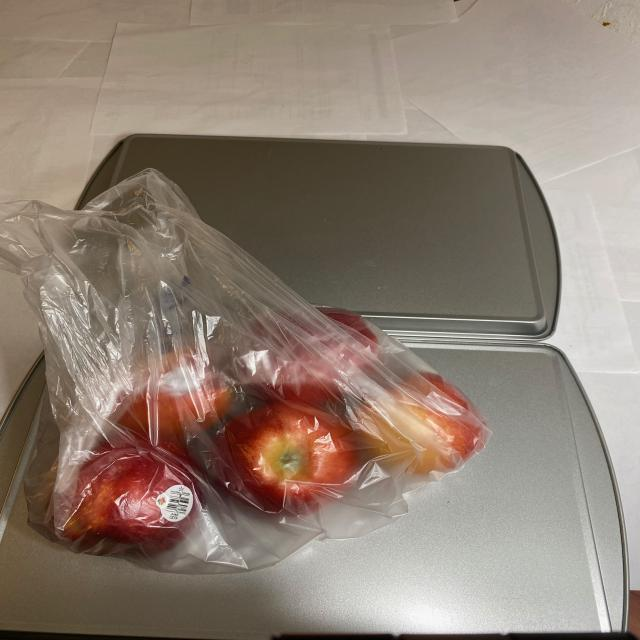apple: (36, 273, 480, 562)
